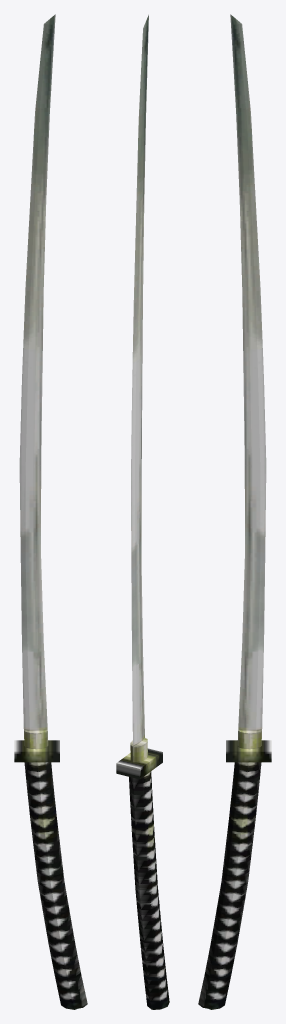
Rendered from _1katana_dc5d5dde.glb.
3 views of the same model, side by side, from view 1: azimuth 90°, elevation 25°; view 2: azimuth 150°, elevation 25°; view 3: azimuth 270°, elevation 25° (orthographic).
Bounding box in the file's own units: 0.0752 × 3.05 × 0.2046.
Materials: 1 (1 with a texture image).
